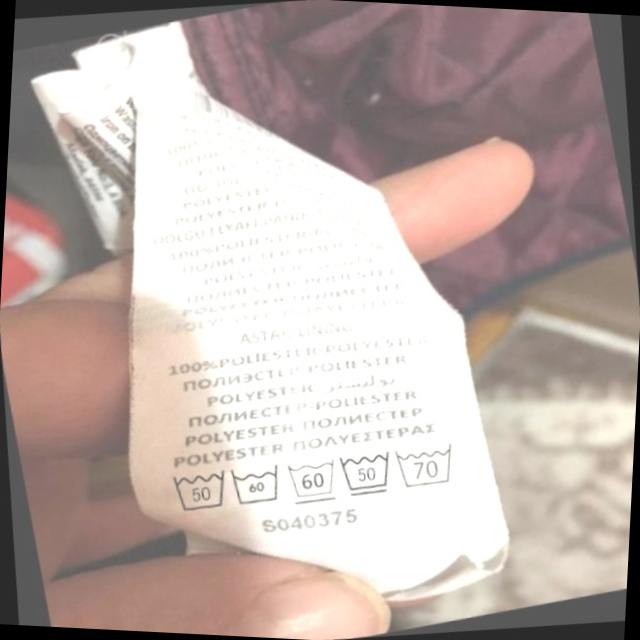50C: (161, 455, 238, 524), (332, 441, 403, 506)
60C: (281, 448, 348, 512), (224, 454, 292, 516)
70C: (390, 433, 468, 497)
